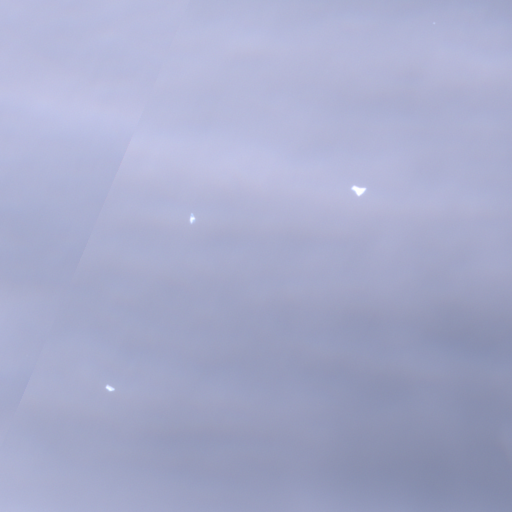Iceberg: (352, 186, 365, 196), (190, 213, 194, 223), (106, 385, 114, 390)
